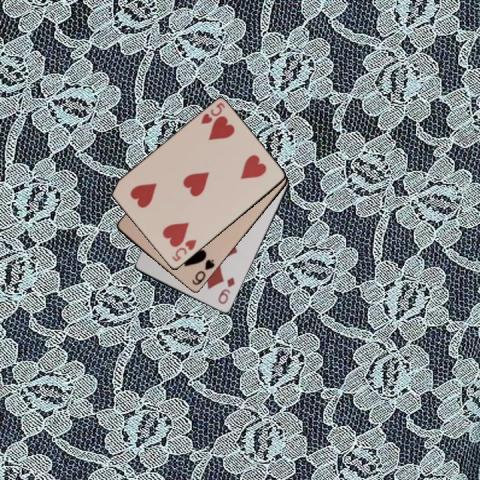5h: (197, 99, 227, 126), (169, 237, 198, 263)
6s: (189, 256, 216, 286)
9d: (215, 274, 236, 306)
